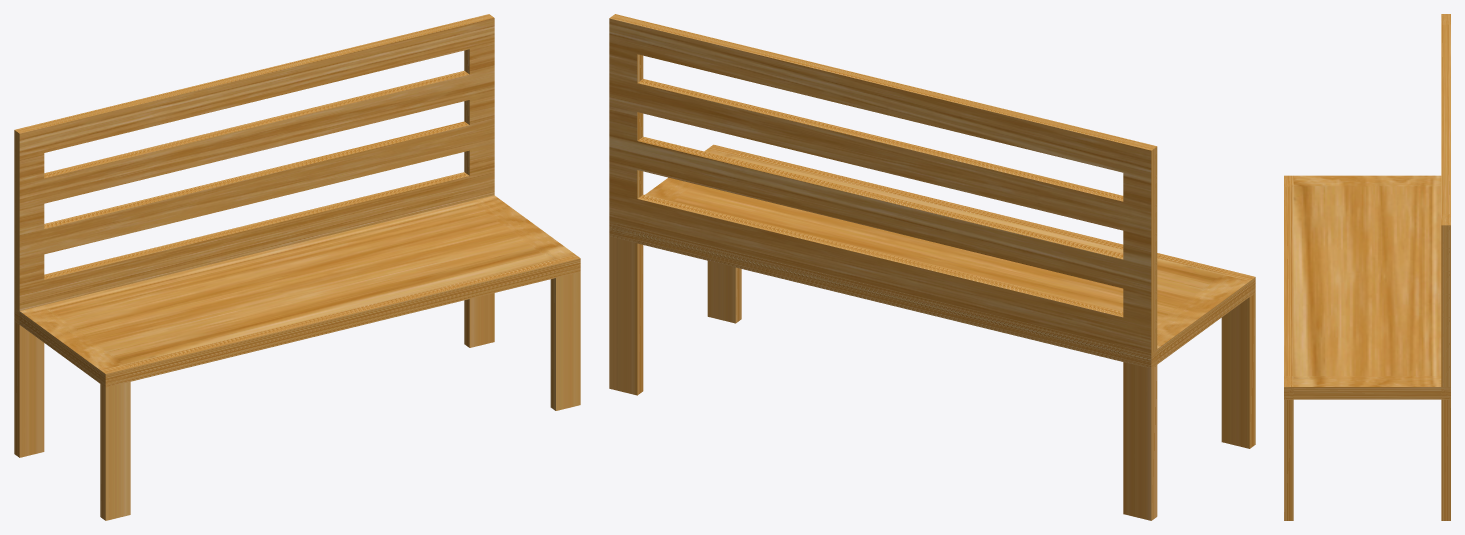
File: BasicBench2.fbx
3 renders of one model, left to right at view 1: azimuth 30°, elevation 25°; view 2: azimuth 150°, elevation 25°; view 3: azimuth 270°, elevation 25°, orthographic. The views are drawn at different scales.
Visible parts, largest first — view 1: pCube2; view 2: pCube2; view 3: pCube2.
Boxes of the visible parts, <box> form: pCube2: <box>14,14,580,520</box>; pCube2: <box>609,14,1255,520</box>; pCube2: <box>1284,14,1450,520</box>.
Size of the model in its own units: 1.85 by 1.21 by 0.6157.
